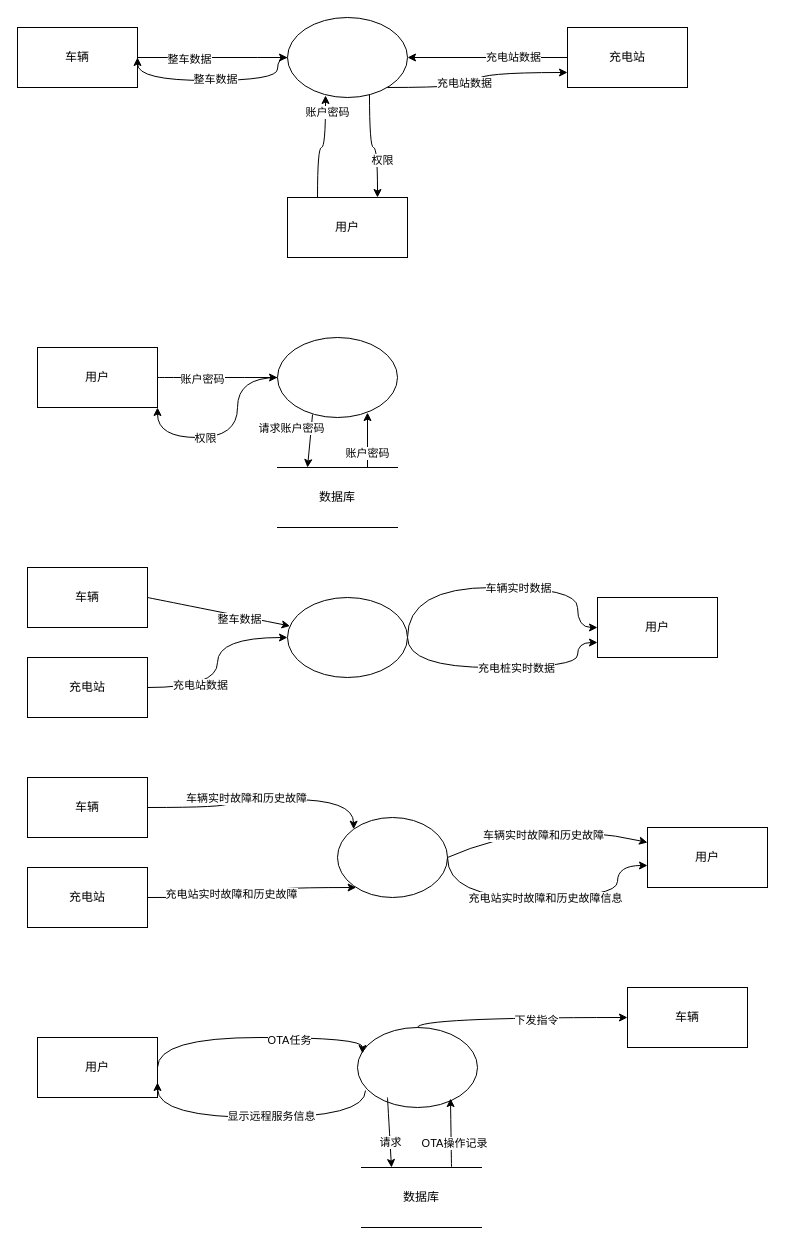
Image size: 785x1245. Some labels were removed from this diagram. Here are the shapes that lost their labels. From the top down, the box of each, then its label:
(286, 16, 408, 98): FleetLink平台
(276, 336, 398, 418): 登录界面
(286, 596, 408, 678): 实时数据界面
(336, 816, 448, 898): 事件故障页面
(356, 1026, 478, 1108): 远程服务
